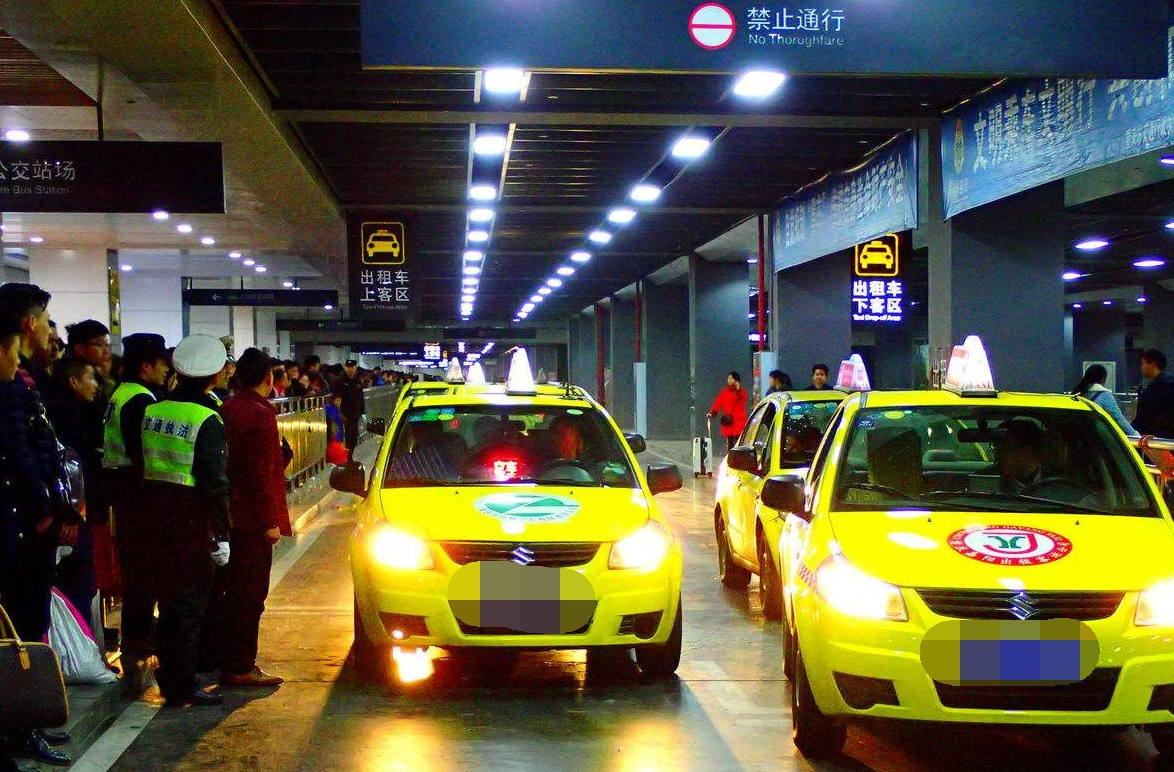taxi: (327, 348, 690, 700)
